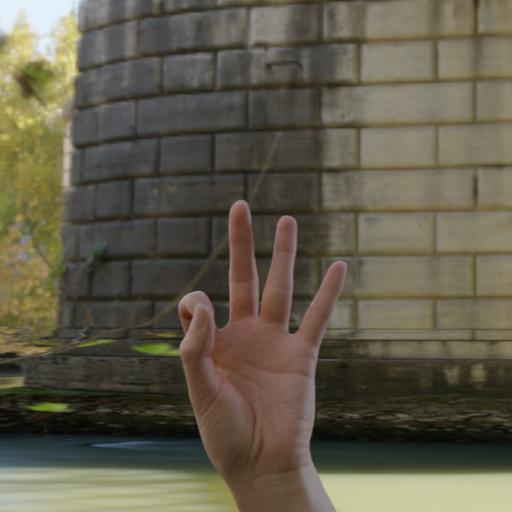F: (130, 166, 431, 512)
